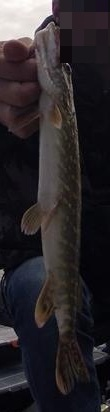Esox lucius: (20, 20, 90, 392)
